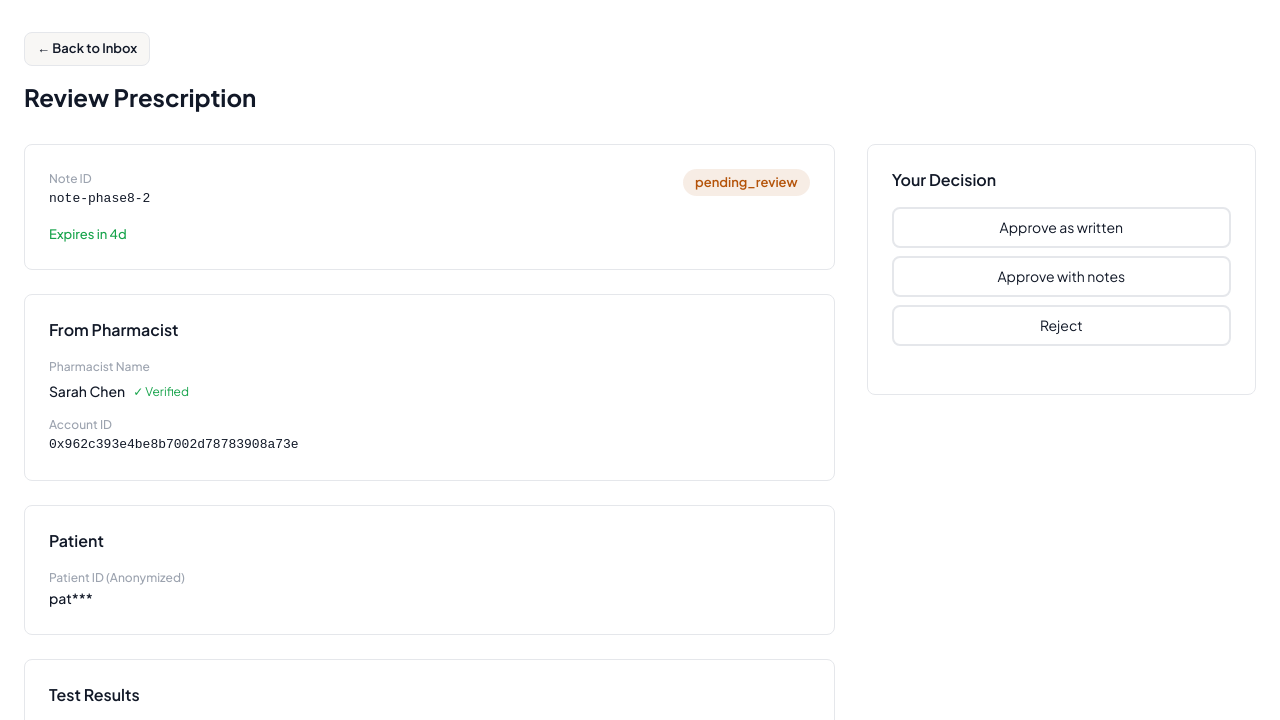
Test case: Phase 8: Doctor workflow › approving a prescription updates status and creates fulfillment
Click the button "Approve as written": (1061,227) [892,206,1231,248]
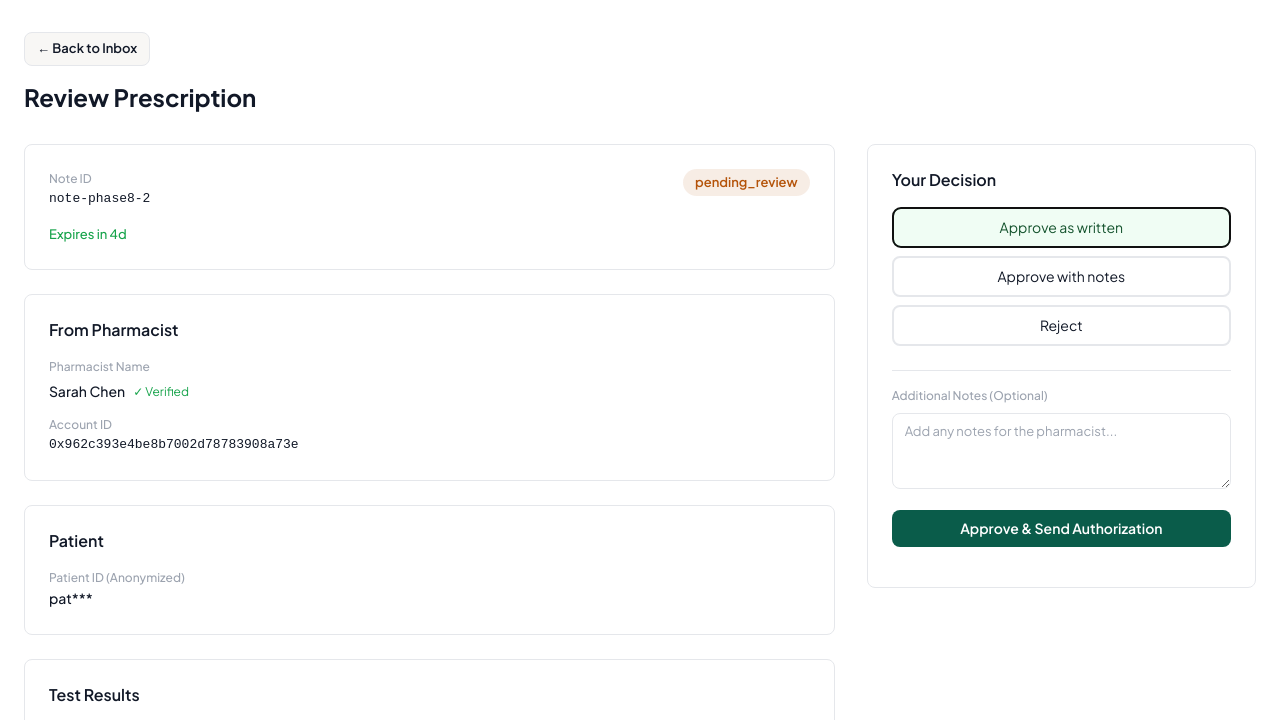
Click the button "Approve & Send Authorization": (1061,528) [892,510,1231,547]
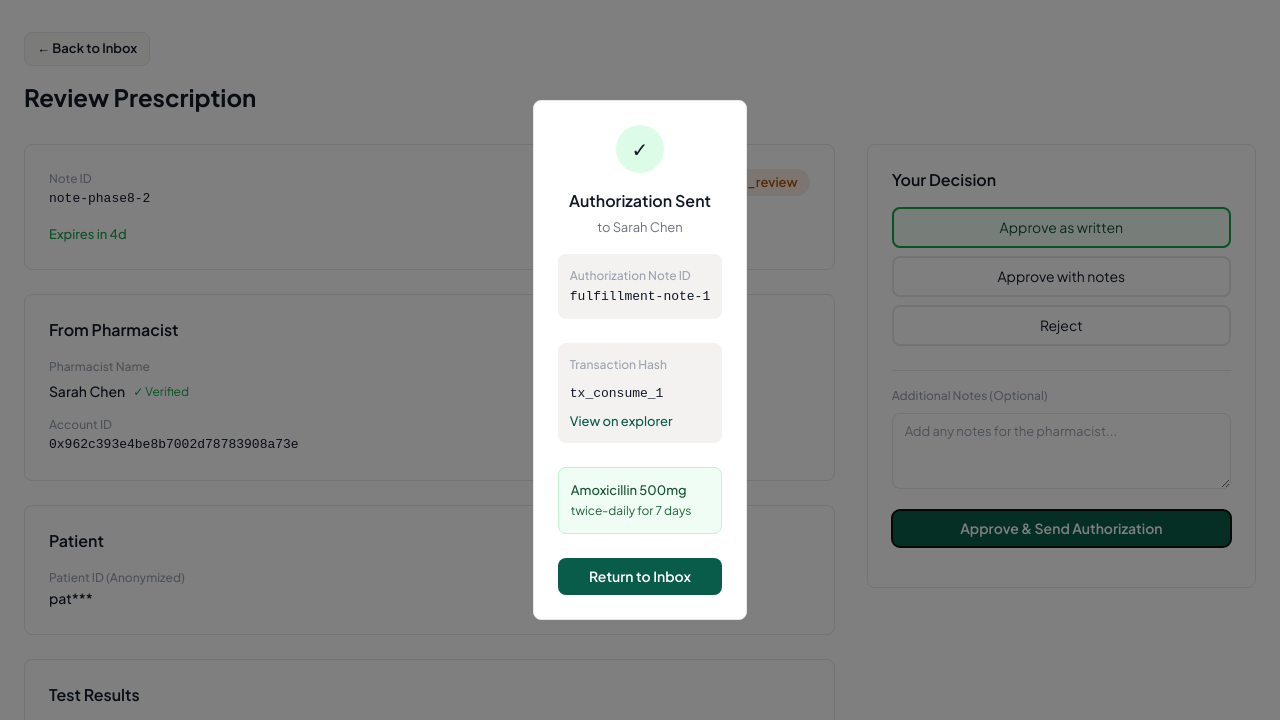
Now the heading "Authorization Sent" is shown, box [558,189,722,213]
